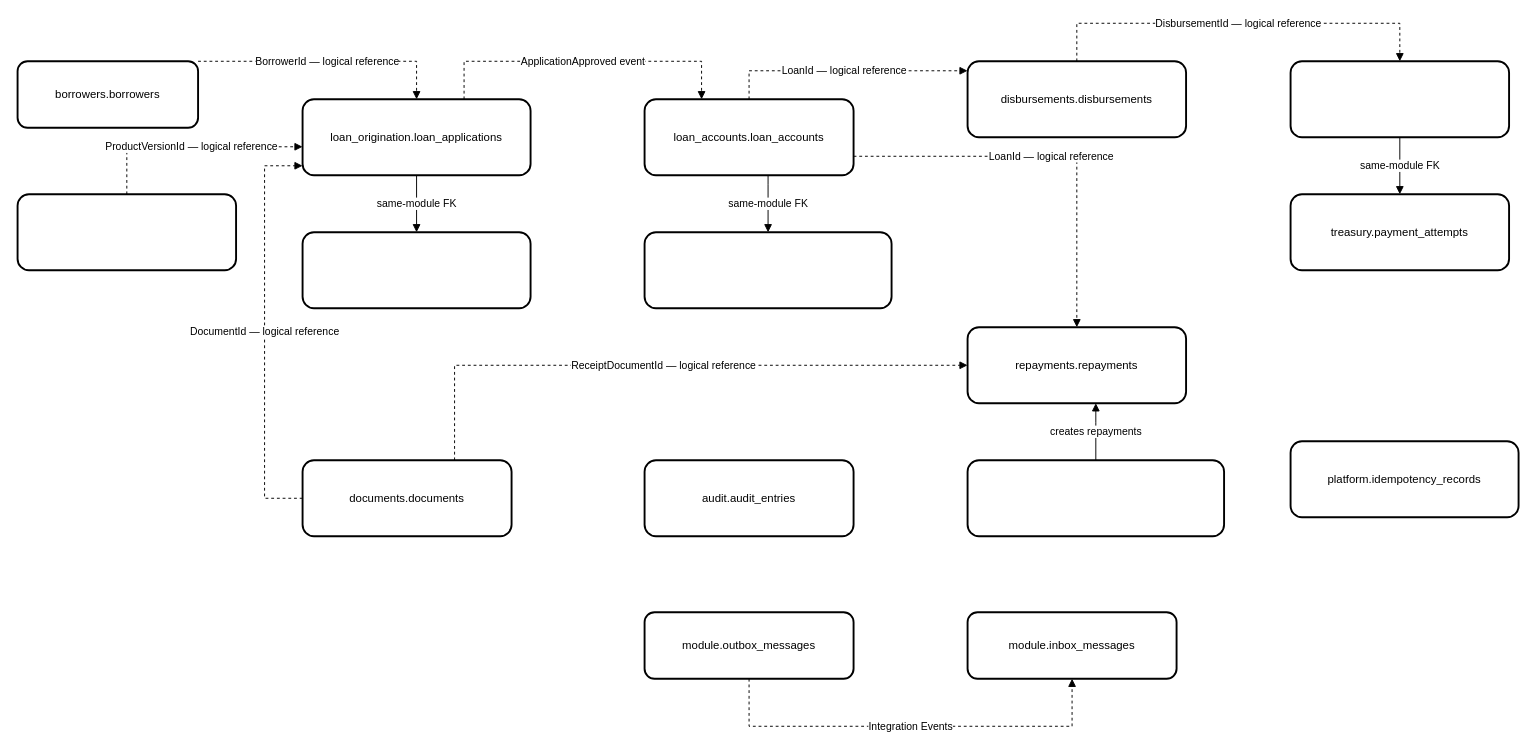
Image size: 1535x751. Some labels were removed from this diagram. The shapes that lost their labels are listed below. From the top down, each one's centre as x and y in pixels, then its label:
At (1399,99): "treasury.treasury_payments".
At (126,232): "loan_products.loan_products + versions".
At (416,270): "loan_origination.property_inspections".
At (767,270): "loan_accounts.disbursement_reservations".
At (1095,498): "repayments.salary_deduction_batches".
